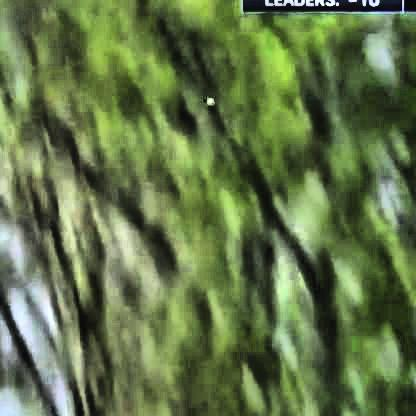golfball: (203, 93, 210, 103)
